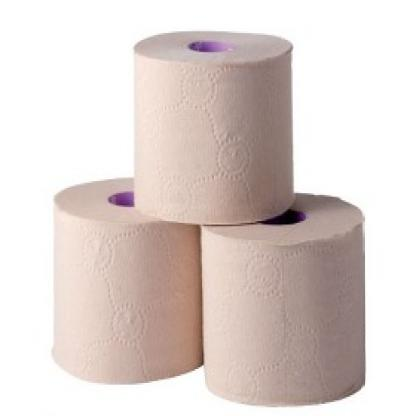tissue: (127, 21, 302, 229)
